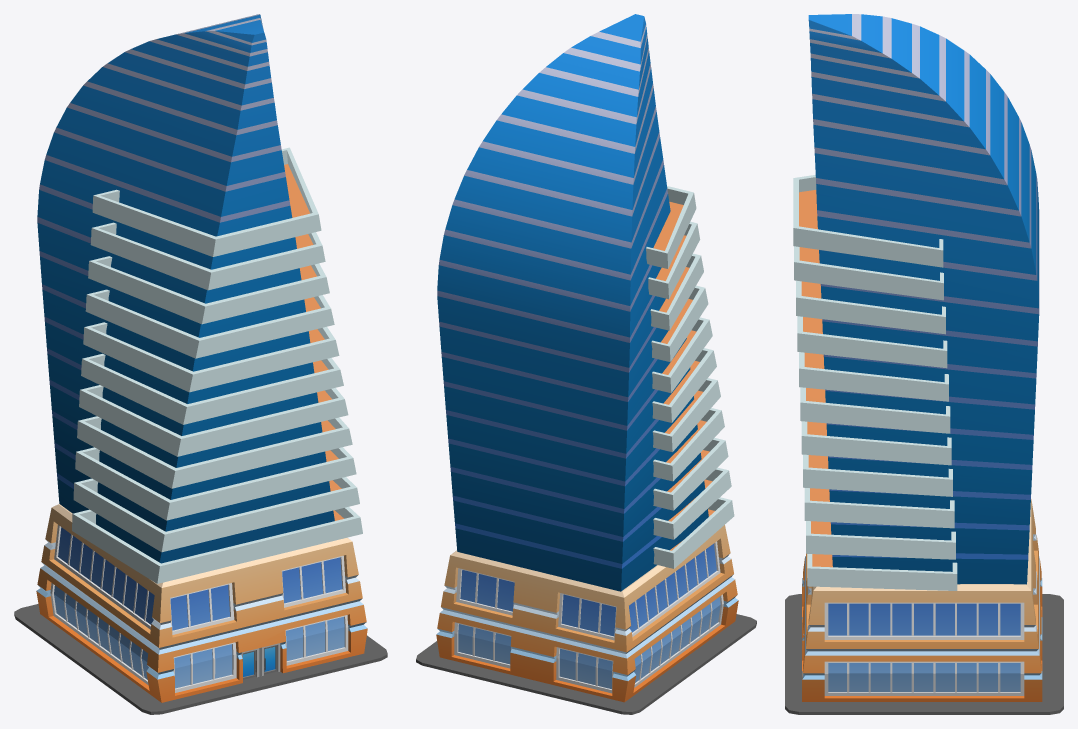
The model's file is business_center_005.glb.
3 views of the same model, side by side, from view 1: azimuth 30°, elevation 25°; view 2: azimuth 150°, elevation 25°; view 3: azimuth 270°, elevation 25° (orthographic). The views are drawn at different scales.
Parts seen in each view (by area): view 1: business_center_005; view 2: business_center_005; view 3: business_center_005.
Part boxes in pixels (bbox=[...]): business_center_005: bbox=[14, 14, 387, 714]; business_center_005: bbox=[416, 14, 756, 714]; business_center_005: bbox=[785, 14, 1063, 714].
Bounding box in the file's own units: 20.44 × 51.63 × 20.44.
Materials: 2 (2 with a texture image).
